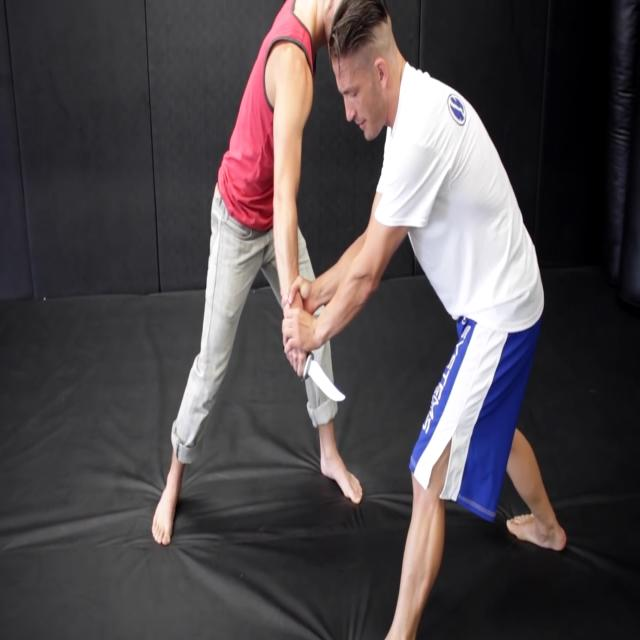knife: (304, 352, 349, 414)
